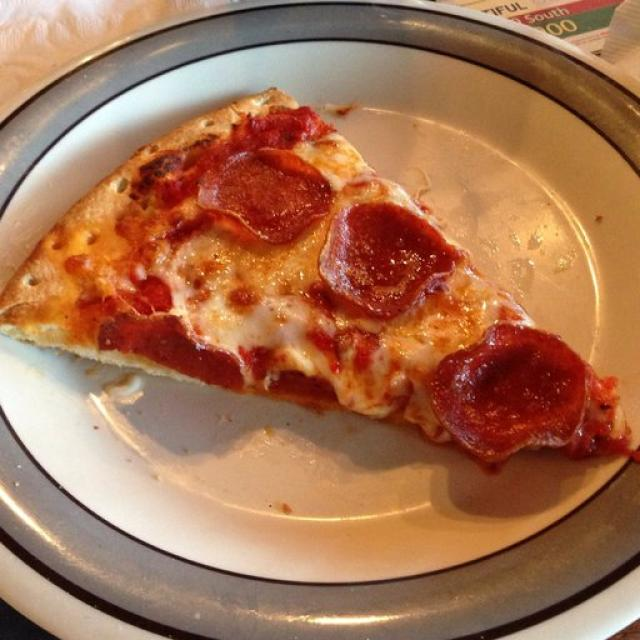Pepperoni: (435, 325, 580, 456), (326, 202, 450, 314), (200, 149, 334, 247)
Pizza: (0, 89, 631, 466)
